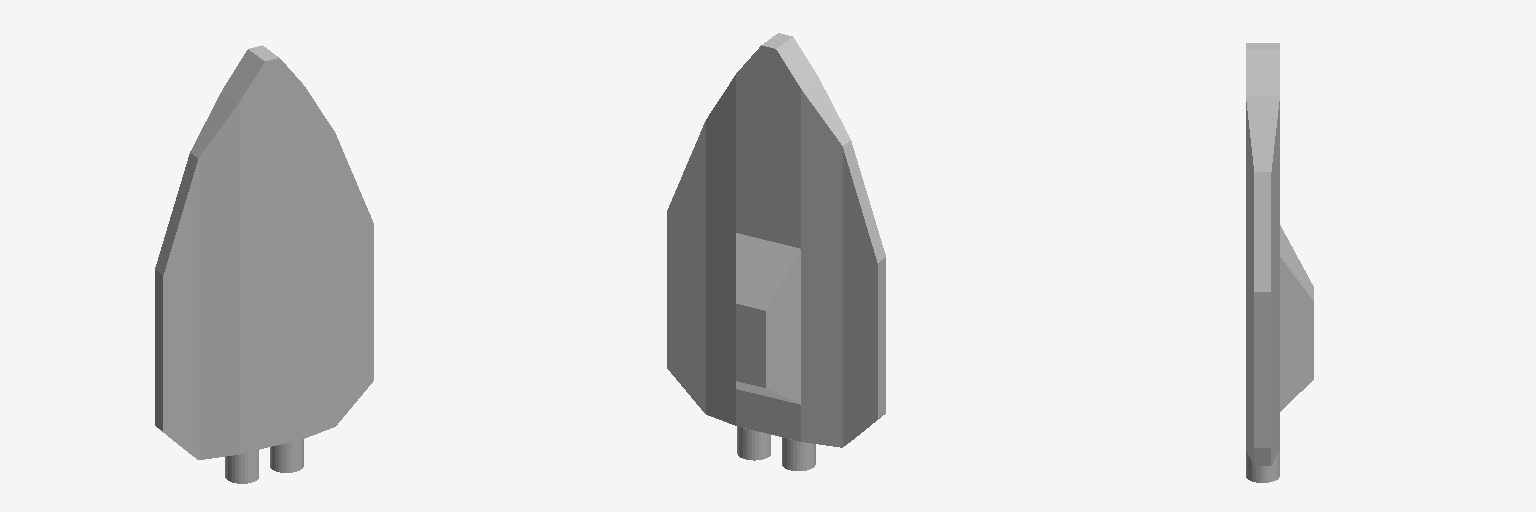
File: SpaceFighterv1.obj
3 views of the same model, side by side, from view 1: azimuth 30°, elevation 25°; view 2: azimuth 150°, elevation 25°; view 3: azimuth 270°, elevation 25° (orthographic).
Visible parts, largest first — view 1: Cube_Cube.005; view 2: Cube_Cube.005; view 3: Cube_Cube.005.
Part boxes in pixels (x1,y1,x2,y2): Cube_Cube.005: (155,45,373,483); Cube_Cube.005: (667,33,885,470); Cube_Cube.005: (1246,43,1313,482).
Size of the model in its own units: 14.26 by 27 by 4.